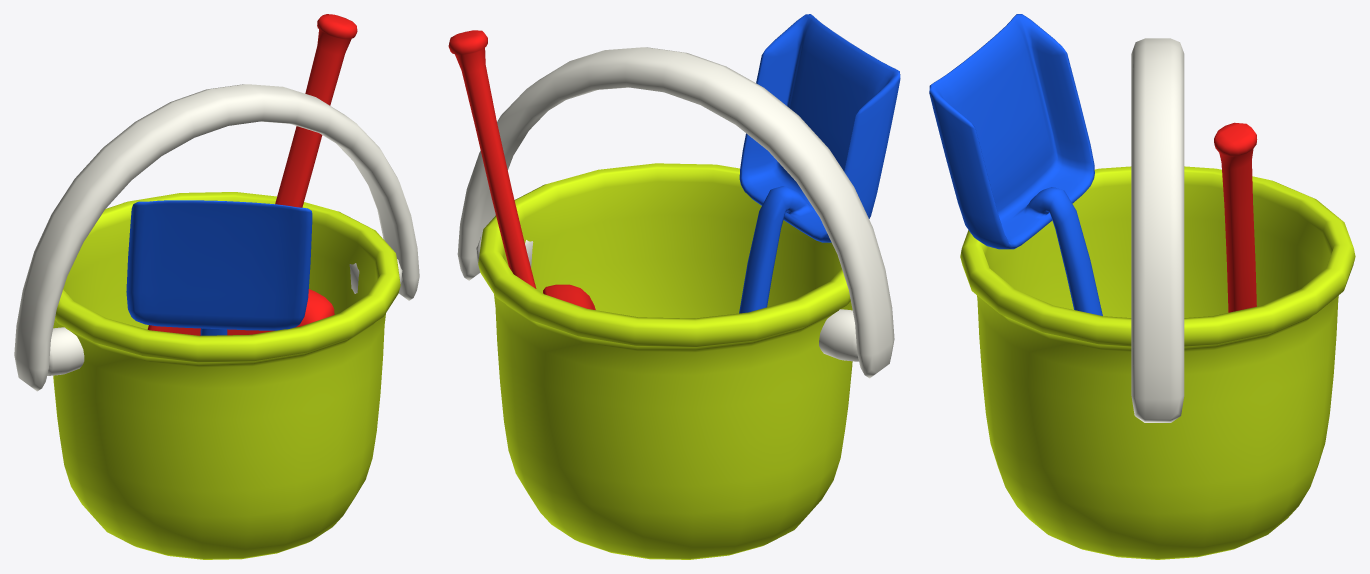
The model's file is Cubeta.fbx.
3 renders of one model, left to right at view 1: azimuth 30°, elevation 25°; view 2: azimuth 150°, elevation 25°; view 3: azimuth 270°, elevation 25°, orthographic. The views are drawn at different scales.
Visible parts, largest first — view 1: polySurface1; view 2: polySurface1; view 3: polySurface1.
Part boxes in pixels (box(x1,y1,x2,y2)): polySurface1: box(14, 14, 419, 559); polySurface1: box(448, 14, 900, 559); polySurface1: box(929, 14, 1355, 559).
Bounding box in the file's own units: 7.53 × 7.92 × 6.67.
